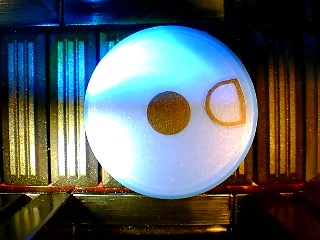BOHOMIPO1: (84, 25, 259, 199)
